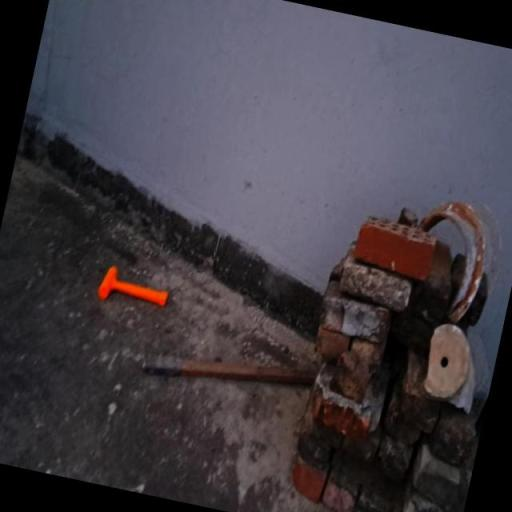mallet: (96, 263, 172, 314)
